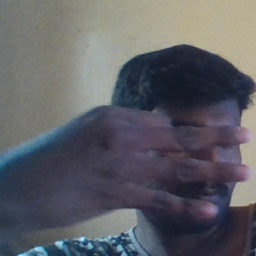K: (7, 104, 252, 231)
